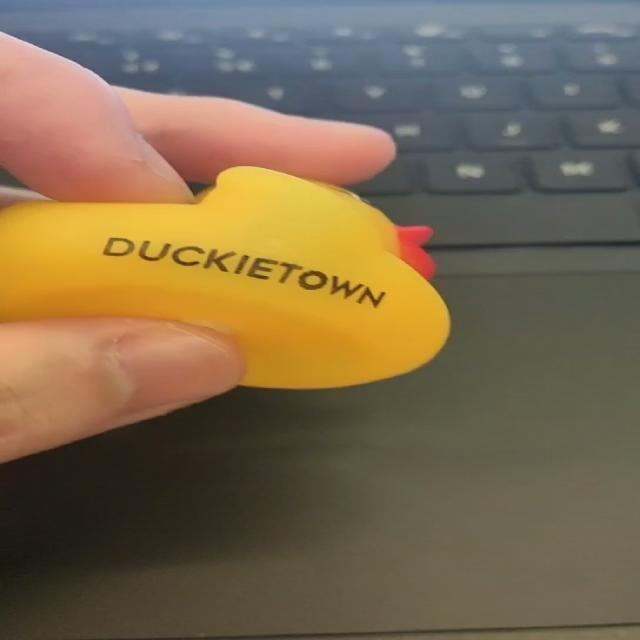rubber-duck: (0, 166, 448, 386)
